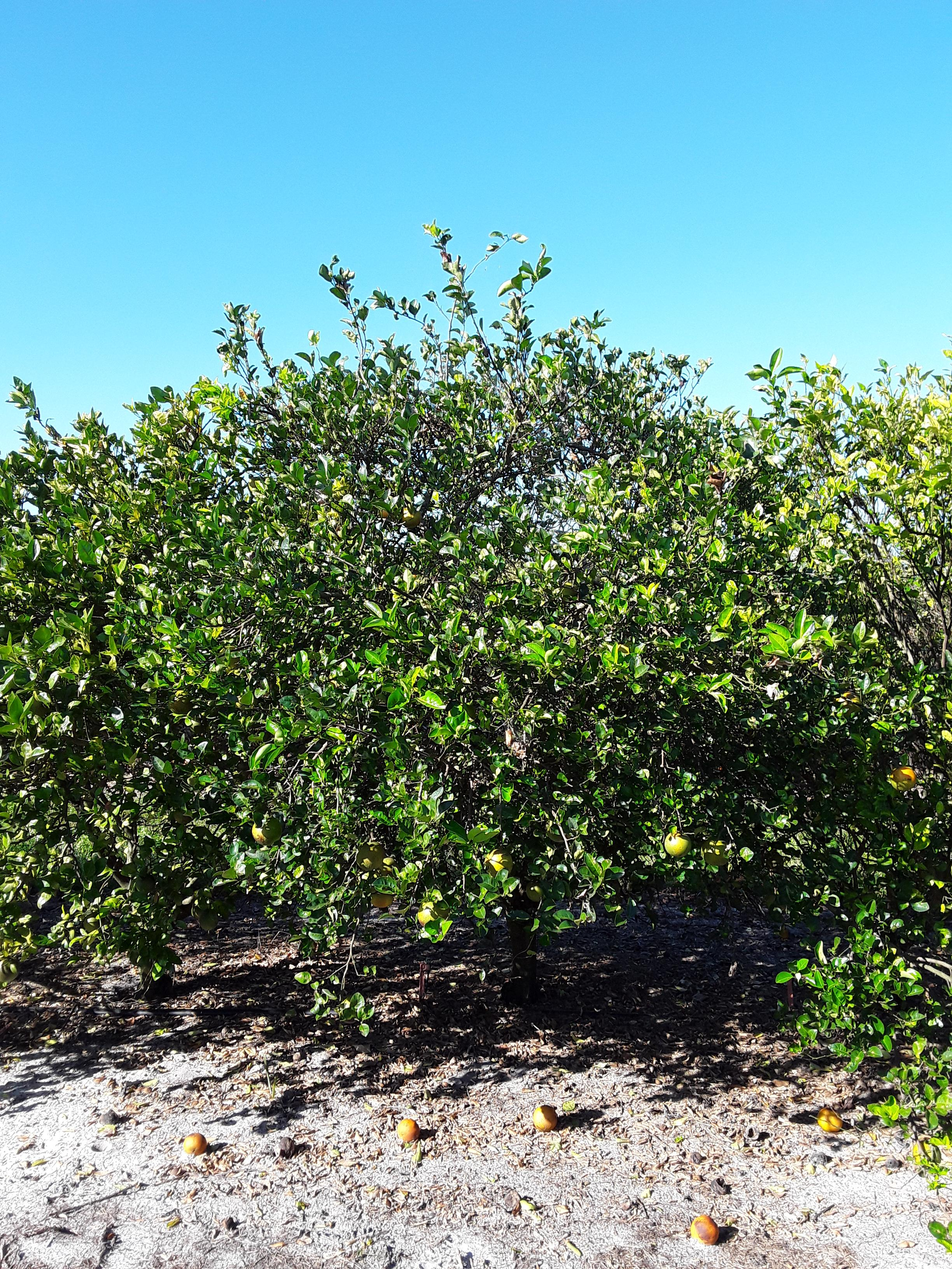fruit_on_ground: (481, 844, 516, 879), (249, 813, 285, 847), (830, 685, 867, 718), (414, 898, 452, 930), (698, 834, 733, 868), (354, 837, 388, 871), (886, 763, 920, 794), (366, 877, 398, 908), (662, 830, 693, 859), (165, 687, 194, 716), (402, 566, 430, 592), (0, 953, 20, 988), (399, 504, 425, 530), (217, 644, 243, 669), (523, 879, 548, 904), (198, 909, 222, 933), (81, 911, 105, 934), (376, 854, 399, 878), (190, 900, 213, 923), (134, 872, 158, 894), (169, 806, 193, 827), (375, 502, 394, 520), (317, 262, 333, 280)
fruit_on_tree: (688, 1212, 721, 1247), (531, 1103, 560, 1134), (815, 1106, 844, 1133), (394, 1116, 421, 1144), (181, 1130, 208, 1156), (278, 1136, 298, 1156)
